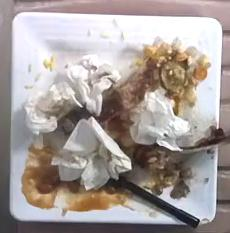vegetables: (139, 39, 211, 106)
